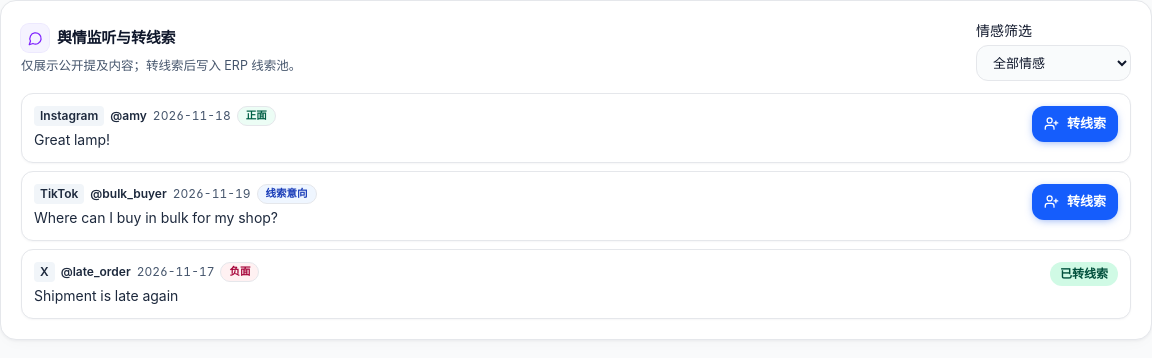
it: social components › filters mentions by sentiment and converts only unconverted intent leads
Select "线索意向" in the dropdown labelled "情感筛选" at (1054, 63), box [976,45,1131,81]
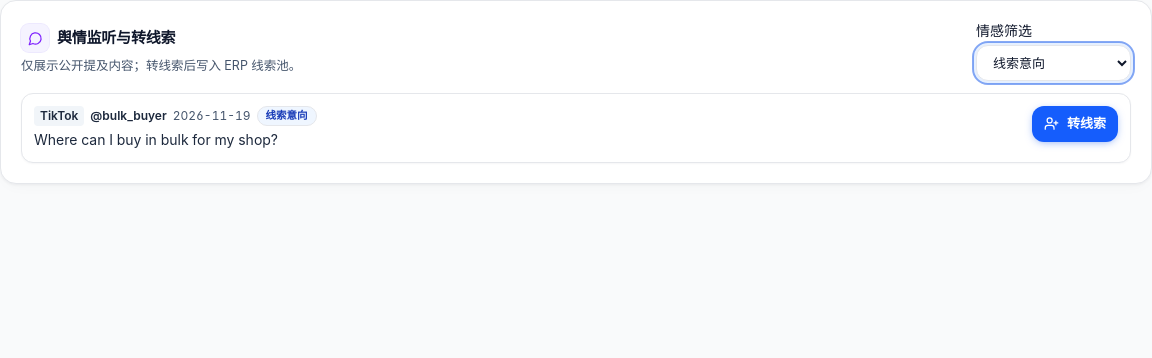
Expected: the text "Where can I buy in bulk for my shop?" is shown, [34,131,278,148]
Now the text "Great lamp!" is gone
Click the button with aria-label "转线索 @bulk_buyer" at (1075, 124), box [1032,106,1118,142]
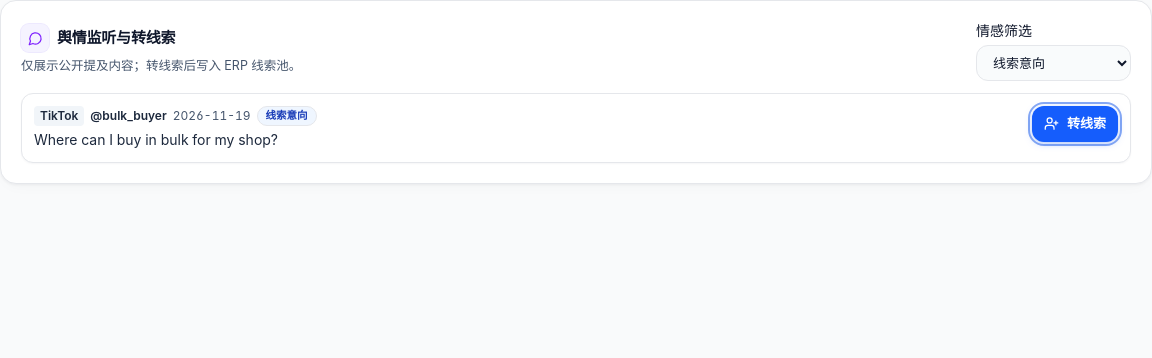
Select "负面" in the dropdown labelled "情感筛选" at (1054, 63), box [976,45,1131,81]
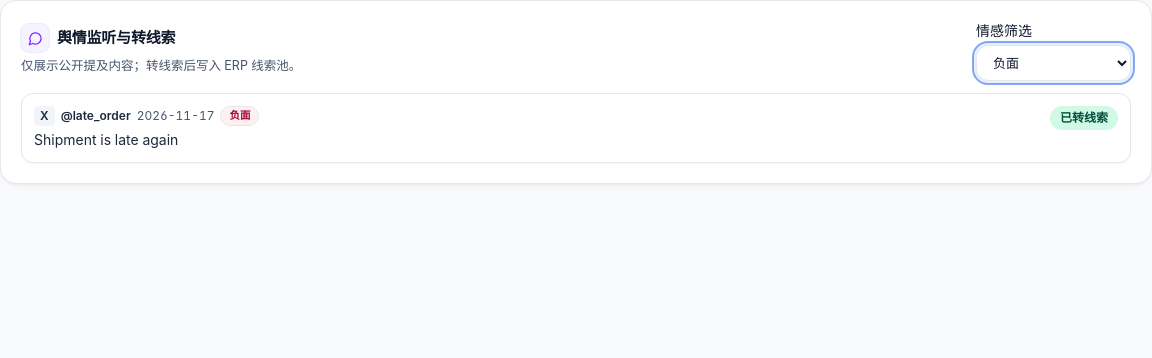
Now the text "已转线索" is shown, box [1050,106,1118,130]
